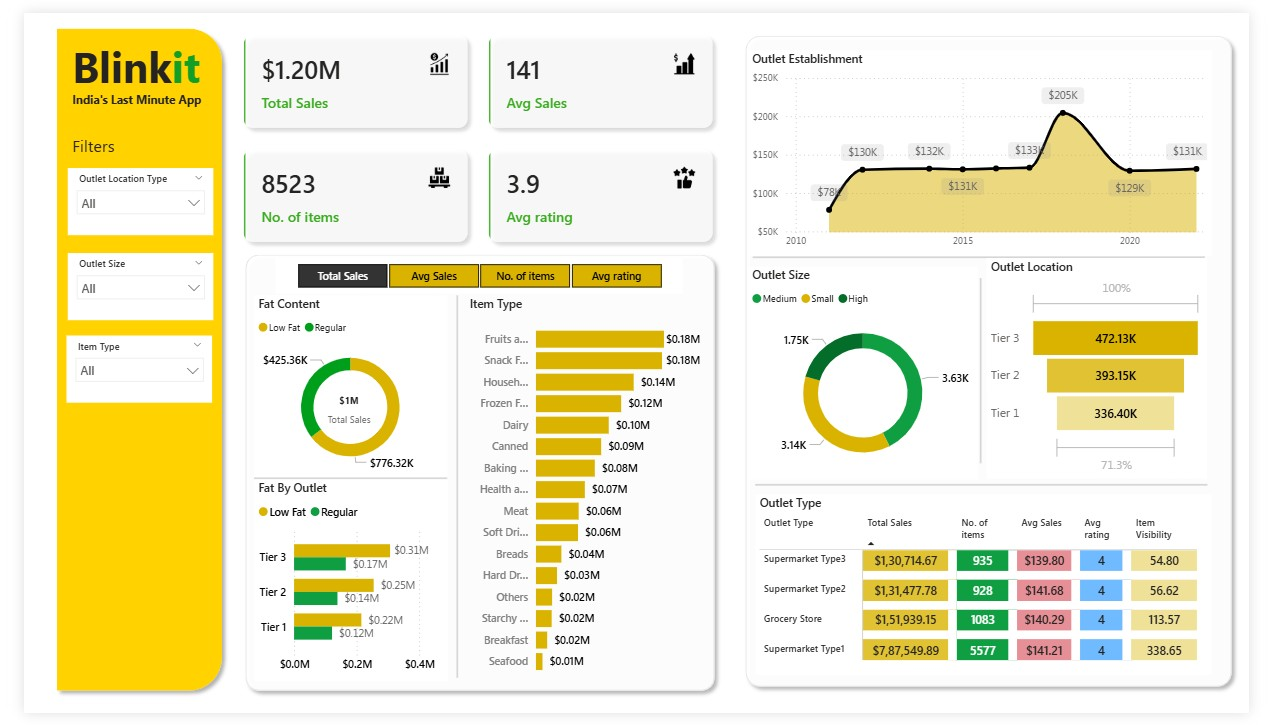

The dashboard page shown, as its layout file describes it:
{"tool":"powerbi","page":{"name":"Page 1","canvas":[1400,800],"ordinal":0},"visuals":[{"type":"shape","box":[28.3,8.2,206.7,775],"z":0},{"type":"textbox","box":[50,22.2,166.6,78],"z":1000},{"type":"textbox","box":[50,83.8,166.6,33],"z":2000},{"type":"cardVisual","fields":{"Data":["BlinkIT Grocery Data.Total Sales","BlinkIT Grocery Data.Avg Sales","BlinkIT Grocery Data.No. of items","BlinkIT Grocery Data.Avg rating"]},"box":[234.6,8.7,570.3,270.2],"z":3000},{"type":"shape","box":[243.6,266.9,553.8,516.3],"z":4000},{"type":"donutChart","title":"Fat Content","fields":{"Y":["BlinkIT Grocery Data.Total Sales"],"Category":["BlinkIT Grocery Data.Item Fat Content"]},"box":[262.3,322.6,220.6,210.1],"z":5000},{"type":"slicer","fields":{"Values":["Metrics.Metrics"]},"box":[287.1,280.4,465.3,40.5],"z":6000},{"type":"card","fields":{"Values":["BlinkIT Grocery Data.Total Sales"]},"box":[324.9,423.2,95,60],"z":7000},{"type":"clusteredBarChart","title":"Fat By Outlet","fields":{"Y":["BlinkIT Grocery Data.Total Sales"],"Category":["BlinkIT Grocery Data.Outlet Location Type"],"Series":["BlinkIT Grocery Data.Item Fat Content"]},"box":[263.3,533.3,221.7,230],"z":8000},{"type":"shape","box":[262.6,523.2,220.8,17.7],"z":9000},{"type":"shape","box":[485.9,322.2,19,437],"z":10000},{"type":"barChart","title":"Item Type","fields":{"Y":["BlinkIT Grocery Data.Total Sales"],"Category":["BlinkIT Grocery Data.Item Type"]},"box":[504.9,323.2,273.3,443.3],"z":11000},{"type":"shape","title":"Outlet Establisgment","box":[815,16.7,573.3,761.7],"z":12000},{"type":"lineChart","title":"Outlet Establishment","fields":{"Category":["BlinkIT Grocery Data.Outlet Establishment Year"],"Y":["BlinkIT Grocery Data.Total Sales"]},"box":[826.7,43.3,530,235],"z":13000},{"type":"shape","box":[833.3,270,516.7,18.3],"z":14000},{"type":"donutChart","title":"Outlet Size","fields":{"Y":["CountNonNull(BlinkIT Grocery Data.Outlet Location Type)"],"Category":["BlinkIT Grocery Data.Outlet Size"]},"box":[826.7,290,263.3,243.3],"z":15000},{"type":"shape","box":[1090,303.3,6.7,211.7],"z":16000},{"type":"funnel","title":"Outlet Location","fields":{"Category":["BlinkIT Grocery Data.Outlet Location Type"],"Y":["Sum(BlinkIT Grocery Data.Sales)"]},"box":[1100,280,251.7,251.7],"z":17000},{"type":"shape","box":[835,530,516.7,18.3],"z":18000},{"type":"pivotTable","title":"Outlet Type","fields":{"Rows":["BlinkIT Grocery Data.Outlet Type"],"Values":["BlinkIT Grocery Data.Total Sales","BlinkIT Grocery Data.No. of items","BlinkIT Grocery Data.Avg Sales","BlinkIT Grocery Data.Avg rating","Sum(BlinkIT Grocery Data.Item Visibility)"]},"box":[835,550,521.7,206.7],"z":19000},{"type":"slicer","fields":{"Values":["BlinkIT Grocery Data.Outlet Location Type"]},"box":[50,177.4,166.7,76.7],"z":20000},{"type":"slicer","fields":{"Values":["BlinkIT Grocery Data.Outlet Size"]},"box":[50,274.1,166.7,76.7],"z":21000},{"type":"slicer","fields":{"Values":["BlinkIT Grocery Data.Item Type"]},"box":[48.3,369.1,166.7,76.7],"z":22000},{"type":"textbox","box":[50,133.8,75,43.8],"z":23000}]}

Visuals, with their boxes in screenshot pixels (x1, y1, x2, y2), scaled from the page's 1400x800 canvas onto the 1272x725 screenshot:
shape: box=[26, 7, 214, 710]
textbox: box=[45, 20, 197, 91]
textbox: box=[45, 76, 197, 106]
cardVisual - BlinkIT Grocery Data.Total Sales x BlinkIT Grocery Data.Avg Sales: box=[213, 8, 731, 253]
shape: box=[221, 242, 724, 710]
"Fat Content" donutChart: box=[238, 292, 439, 483]
slicer - Metrics.Metrics: box=[261, 254, 684, 291]
card - BlinkIT Grocery Data.Total Sales: box=[295, 384, 382, 438]
"Fat By Outlet" clusteredBarChart: box=[239, 483, 441, 692]
shape: box=[239, 474, 439, 490]
shape: box=[441, 292, 459, 688]
"Item Type" barChart: box=[459, 293, 707, 695]
"Outlet Establisgment" shape: box=[740, 15, 1261, 705]
"Outlet Establishment" lineChart: box=[751, 39, 1233, 252]
shape: box=[757, 245, 1227, 261]
"Outlet Size" donutChart: box=[751, 263, 990, 483]
shape: box=[990, 275, 996, 467]
"Outlet Location" funnel: box=[999, 254, 1228, 482]
shape: box=[759, 480, 1228, 497]
"Outlet Type" pivotTable: box=[759, 498, 1233, 686]
slicer - BlinkIT Grocery Data.Outlet Location Type: box=[45, 161, 197, 230]
slicer - BlinkIT Grocery Data.Outlet Size: box=[45, 248, 197, 318]
slicer - BlinkIT Grocery Data.Item Type: box=[44, 334, 195, 404]
textbox: box=[45, 121, 114, 161]
